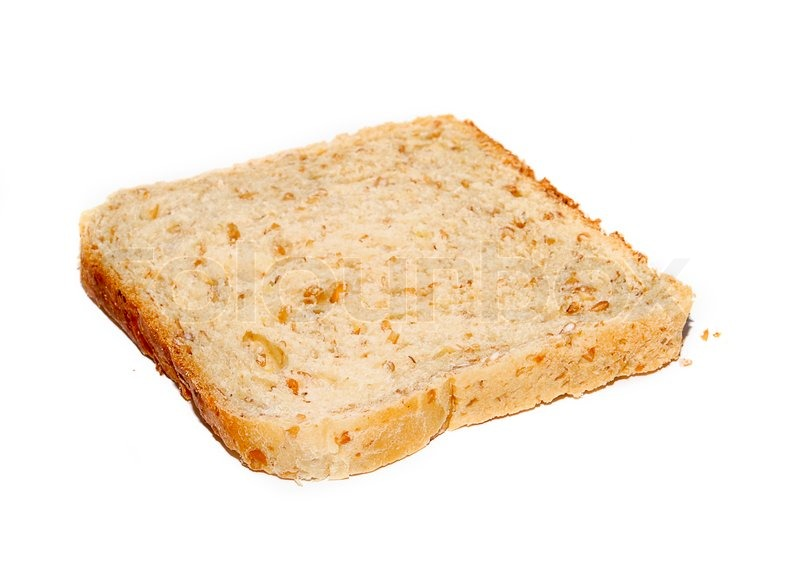slice of bread: (82, 118, 689, 481)
